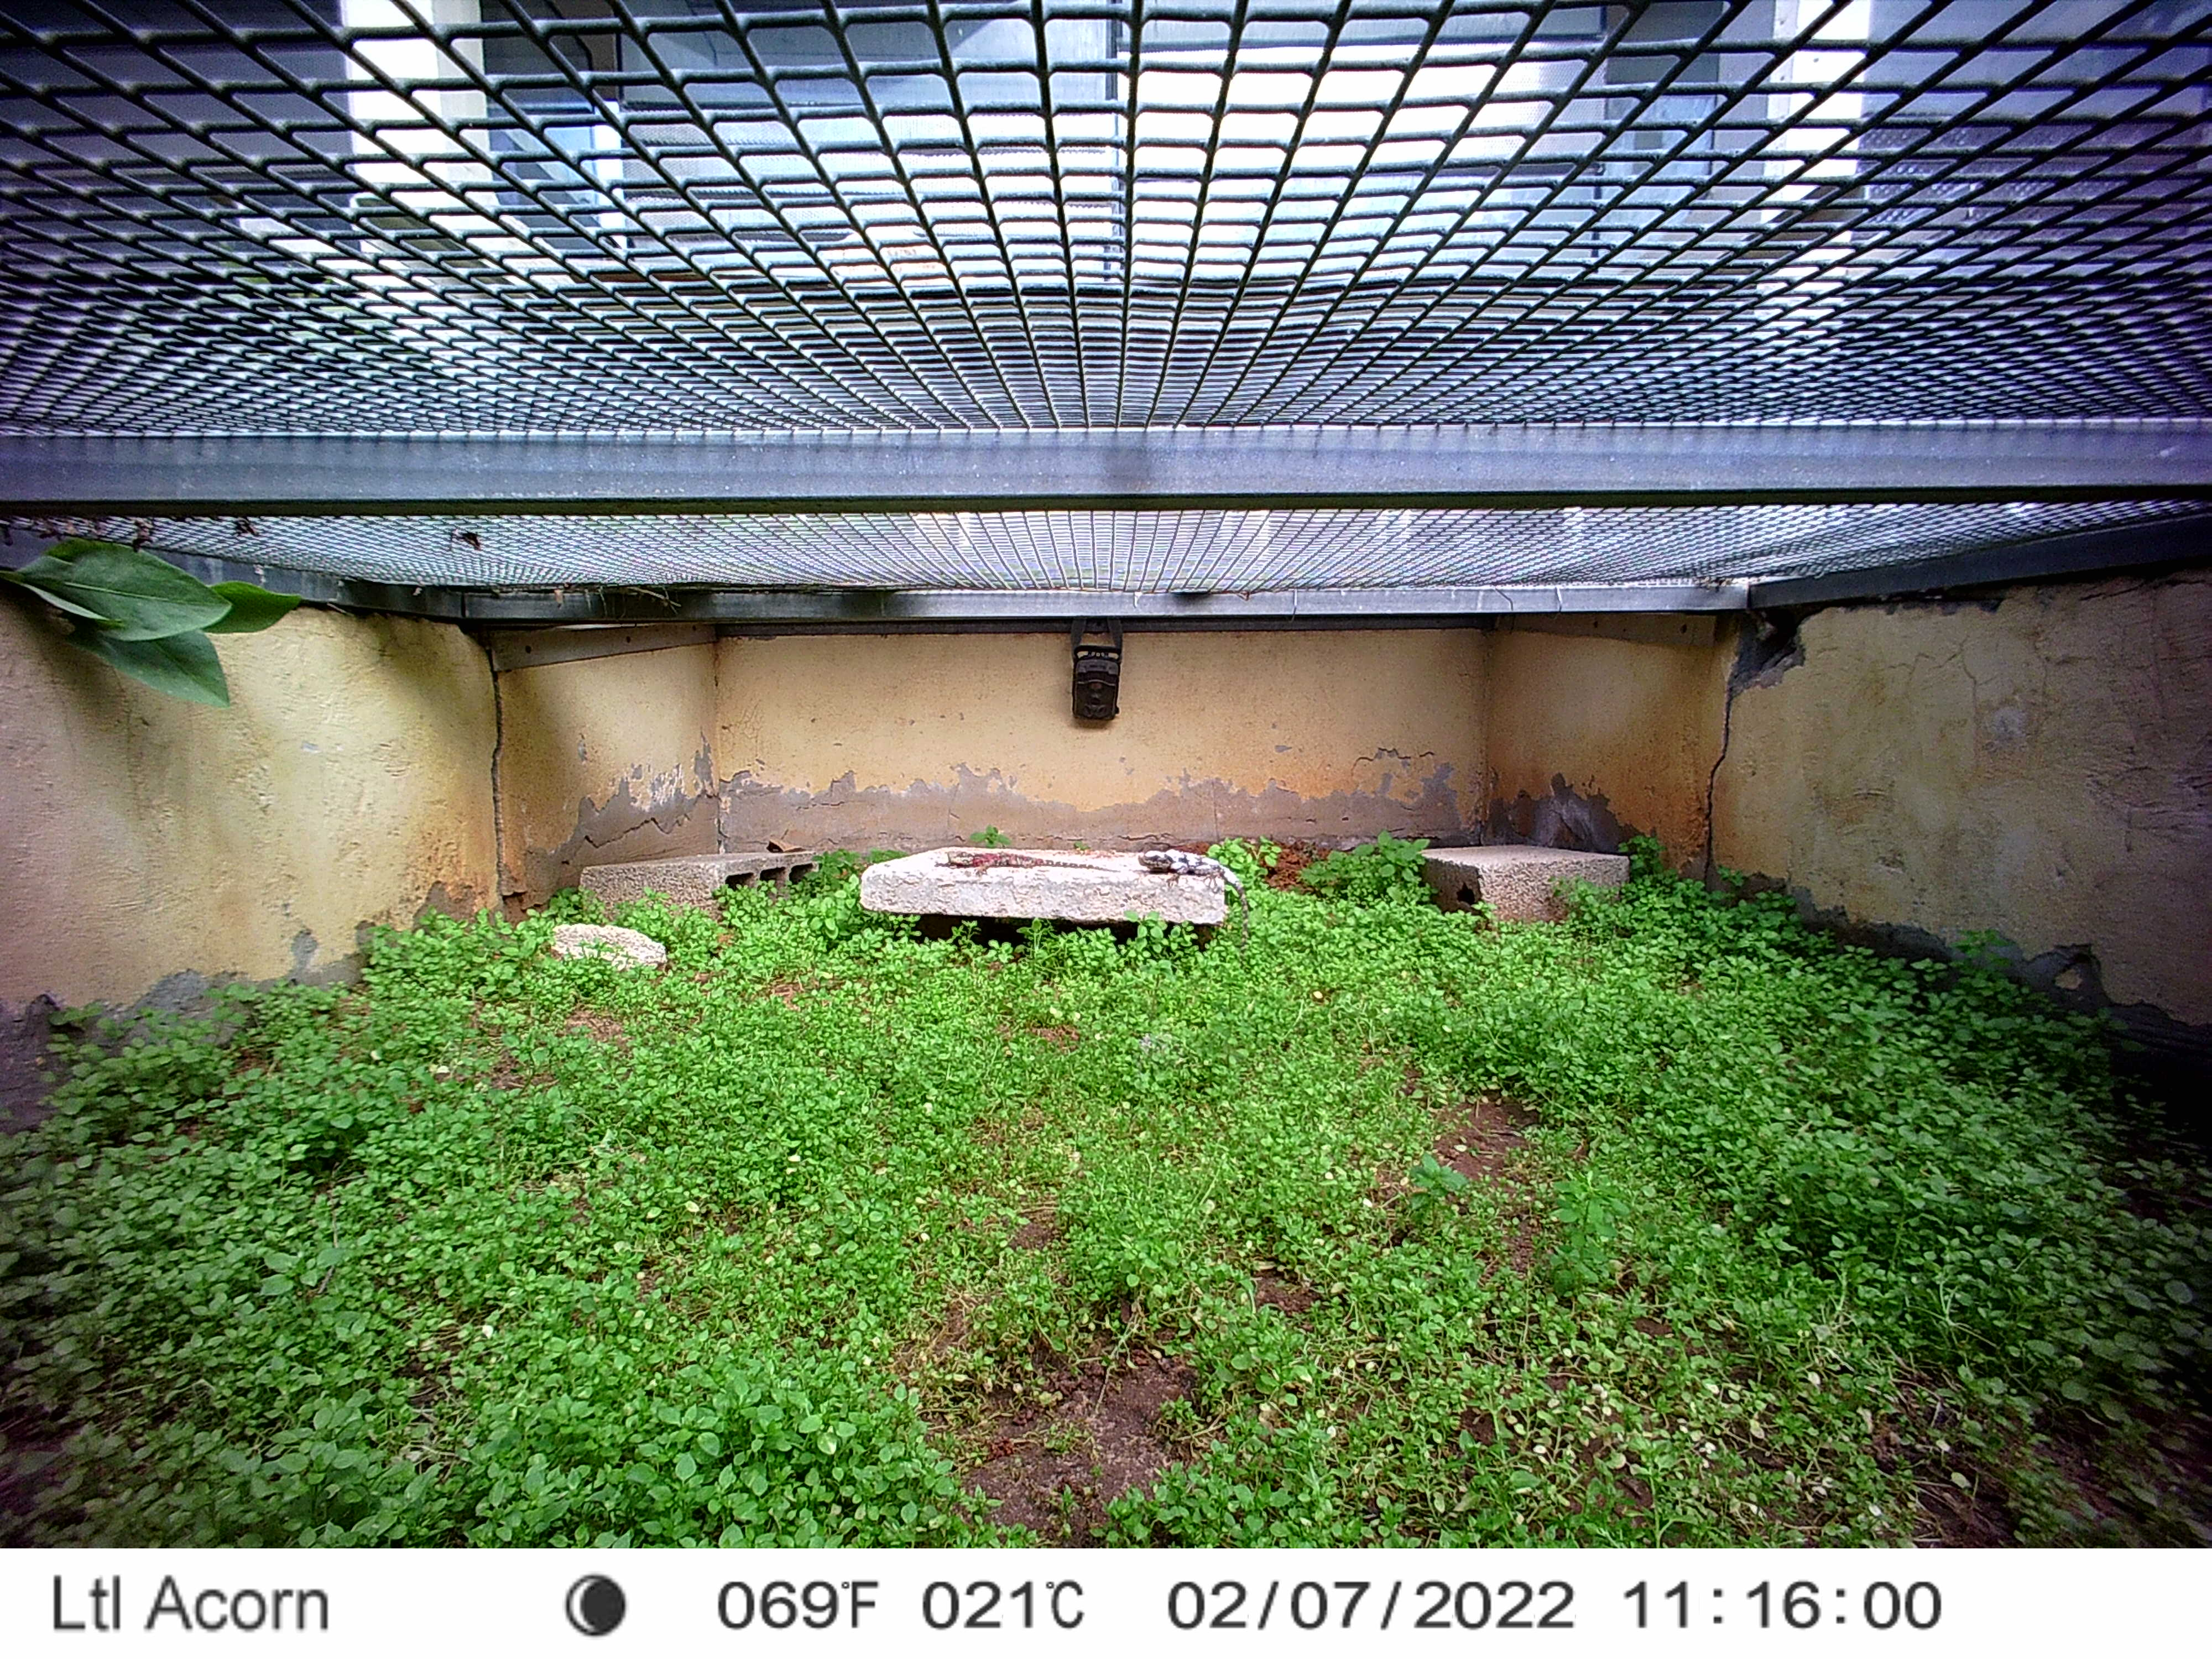lizard: (1134, 845, 1258, 972), (934, 847, 1125, 884)
